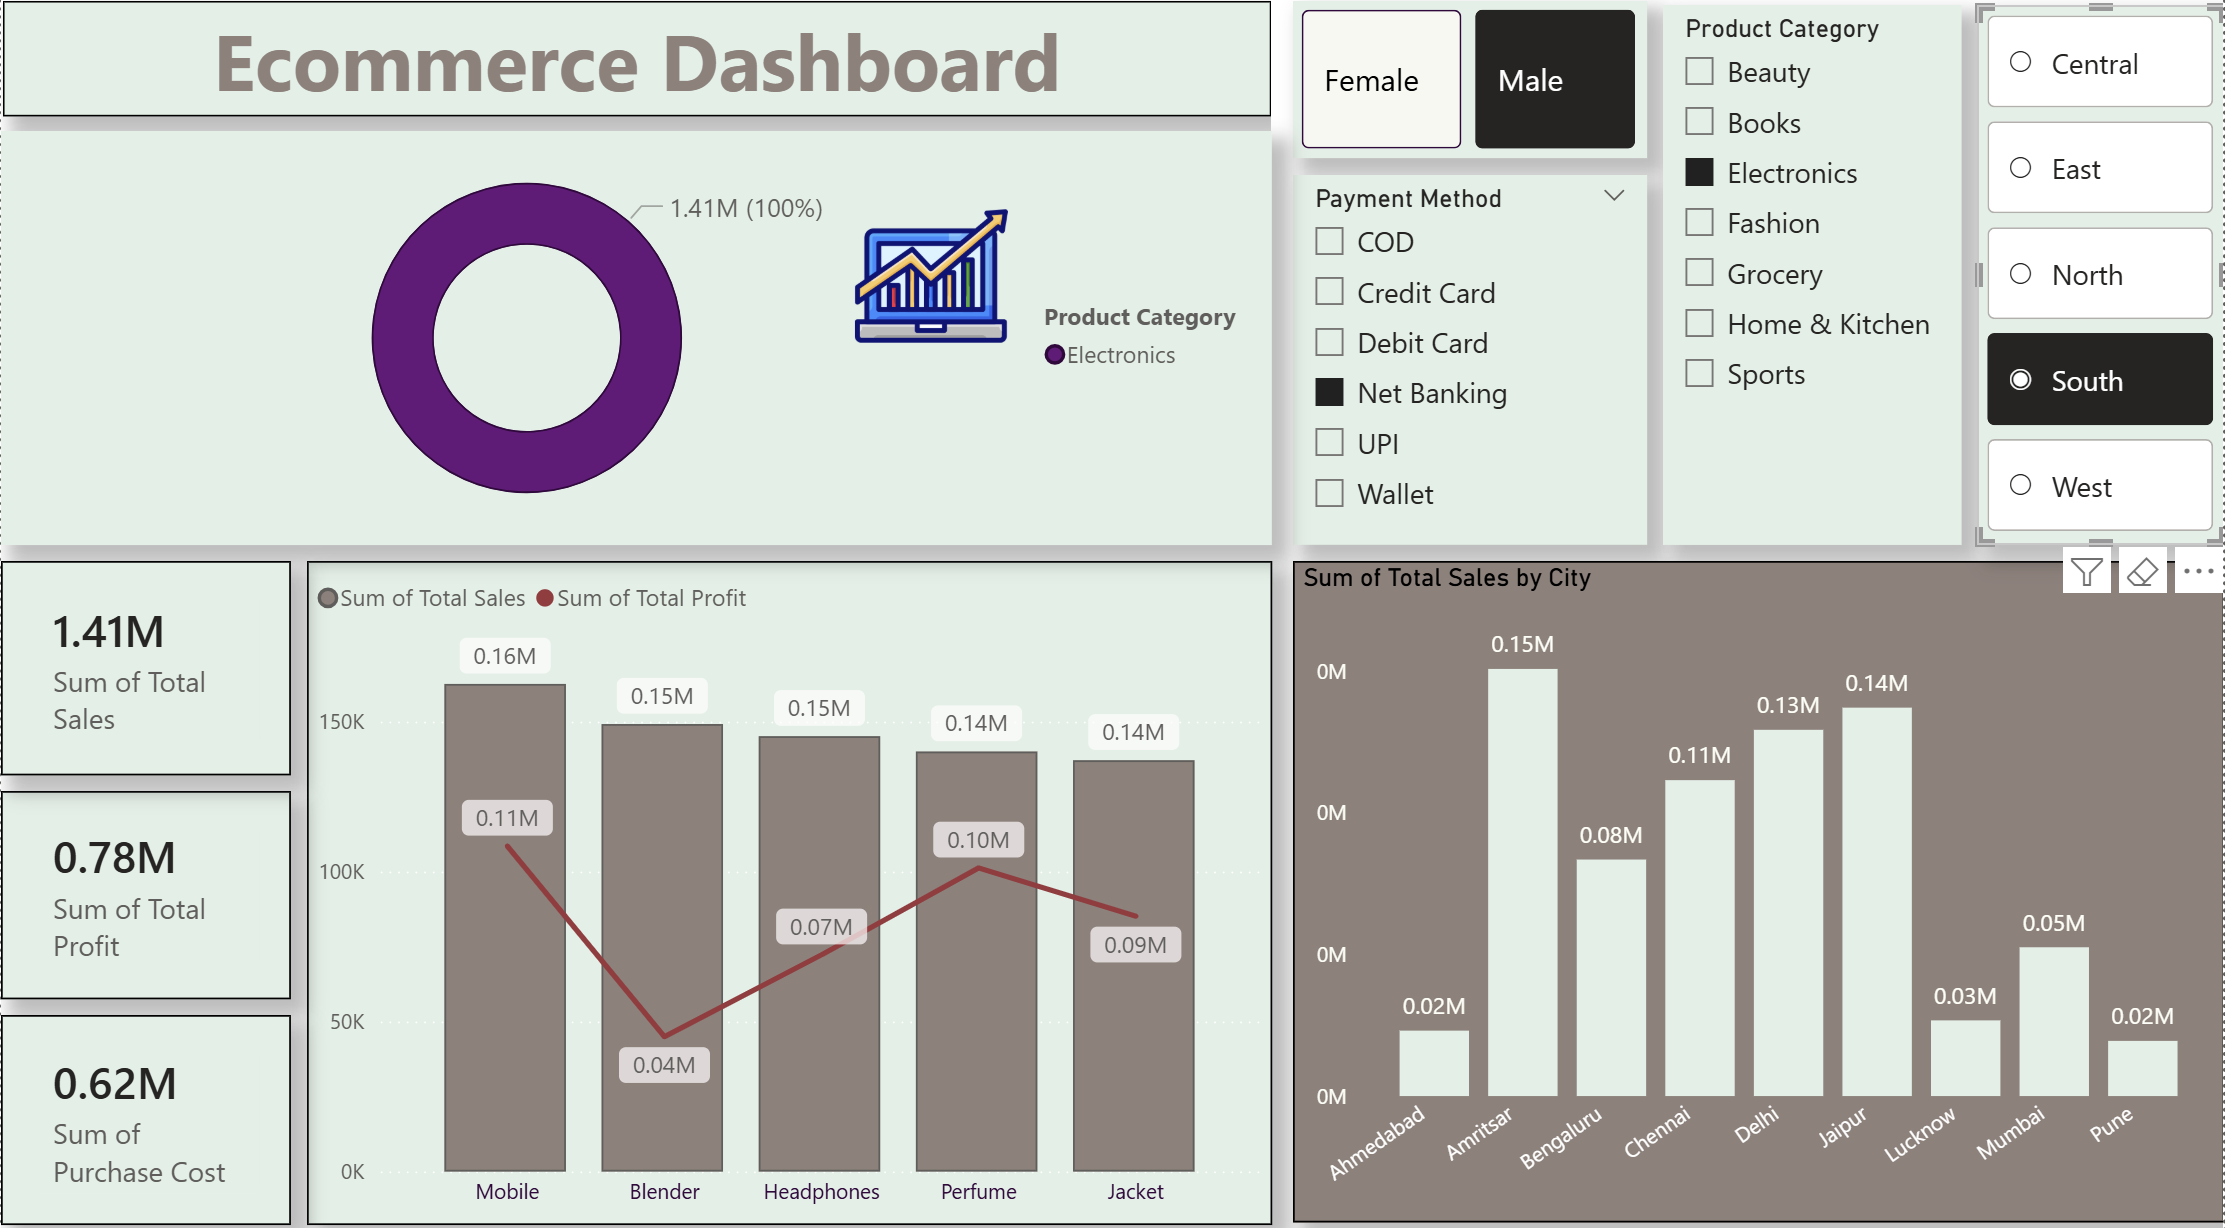

What the dashboard file says about the page in this screenshot:
{"tool":"powerbi","page":{"name":"Page 1","canvas":[1280,720],"ordinal":0},"visuals":[{"type":"shape","box":[1.3,7.6,730.5,66.3],"z":0},{"type":"shape","box":[731.9,0,548.1,321.5],"z":1000},{"type":"advancedSlicerVisual","fields":{"Values":["Ecommerce Sales Data.Gender"]},"box":[744.5,7.6,204,90.5],"z":2000},{"type":"slicer","fields":{"Values":["Ecommerce Sales Data.Payment Method"]},"box":[744.5,108.4,204,212.9],"z":3000},{"type":"slicer","fields":{"Values":["Ecommerce Sales Data.Product Category"]},"box":[957.5,10.2,172.1,311.1],"z":4000},{"type":"lineClusteredColumnComboChart","fields":{"Y":["Sum(Ecommerce Sales Data.Amount)"],"Category":["Ecommerce Sales Data.Product Name"],"Y2":["Sum(Ecommerce Sales Data.Profit)"]},"box":[175.9,330.2,555.9,382.5],"z":5000},{"type":"advancedSlicerVisual","fields":{"Values":["Ecommerce Sales Data.Region"]},"box":[1138.5,10.2,142.8,311.1],"z":6000},{"type":"columnChart","fields":{"Category":["Ecommerce Sales Data.Payment Method","Ecommerce Sales Data.City"],"Y":["Sum(Ecommerce Sales Data.Total Sales)"]},"box":[744.5,330.2,536.7,381.2],"z":7000},{"type":"donutChart","fields":{"Category":["Ecommerce Sales Data.Product Category"],"Y":["Sum(Ecommerce Sales Data.Total Sales)"]},"box":[0,82.9,731.8,238.4],"z":8000},{"type":"image","box":[480.4,121,110.6,91],"z":9000},{"type":"cardVisual","fields":{"Data":["Sum(Ecommerce Sales Data.Total Profit)"]},"box":[0,462.8,167,119.8],"z":10000},{"type":"cardVisual","fields":{"Data":["Sum(Ecommerce Sales Data.Total Sales)"]},"box":[0,330.2,167,123.7],"z":11000},{"type":"cardVisual","fields":{"Data":["Sum(Ecommerce Sales Data.Purchase Cost)"]},"box":[0,591.6,167,121.1],"z":12000}]}

Visuals, with their boxes in screenshot pixels (x1, y1, x2, y2), scaled from the page's 1280x720 canvas onto the 2225x1228 screenshot:
shape: [2,13,1272,126]
shape: [1272,0,2224,548]
advancedSlicerVisual - Ecommerce Sales Data.Gender: [1294,13,1649,167]
slicer - Ecommerce Sales Data.Payment Method: [1294,185,1649,548]
slicer - Ecommerce Sales Data.Product Category: [1664,17,1964,548]
lineClusteredColumnComboChart - Sum(Ecommerce Sales Data.Amount) x Ecommerce Sales Data.Product Name: [306,563,1272,1216]
advancedSlicerVisual - Ecommerce Sales Data.Region: [1979,17,2224,548]
columnChart - Ecommerce Sales Data.Payment Method x Ecommerce Sales Data.City: [1294,563,2224,1213]
donutChart - Ecommerce Sales Data.Product Category x Sum(Ecommerce Sales Data.Total Sales): [0,141,1272,548]
image: [835,206,1027,362]
cardVisual - Sum(Ecommerce Sales Data.Total Profit): [0,789,290,994]
cardVisual - Sum(Ecommerce Sales Data.Total Sales): [0,563,290,774]
cardVisual - Sum(Ecommerce Sales Data.Purchase Cost): [0,1009,290,1216]
